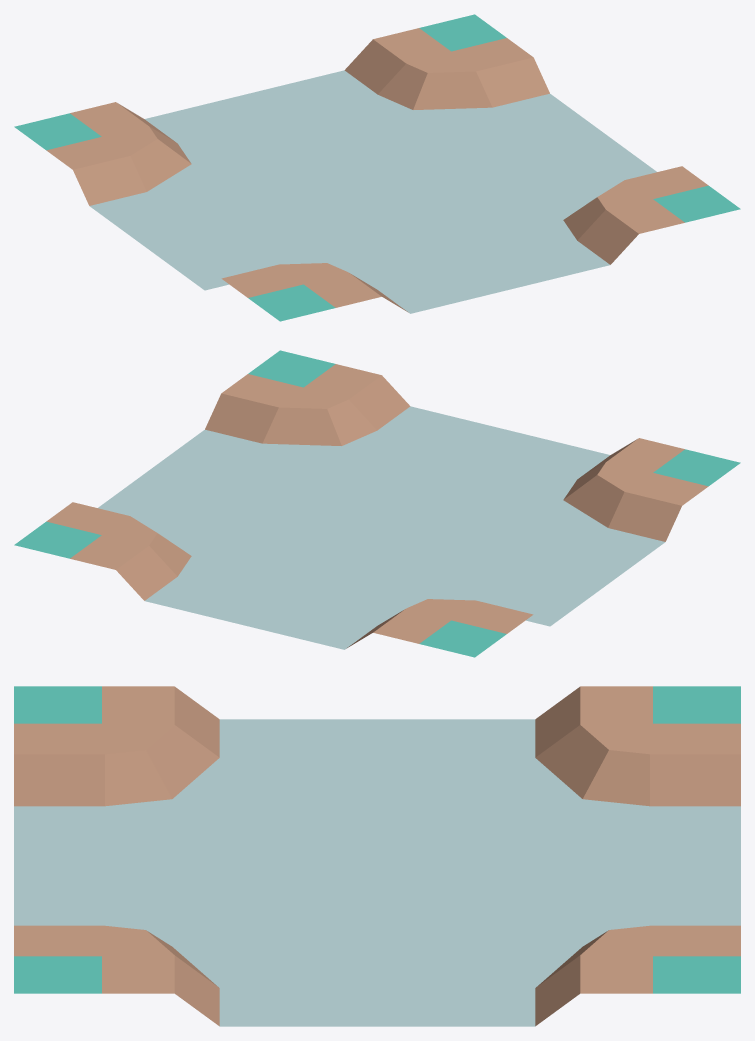
The model's file is ground_riverCross.glb.
The picture shows the model from 3 angles, top to bottom: view 1: azimuth 30°, elevation 25°; view 2: azimuth 150°, elevation 25°; view 3: azimuth 270°, elevation 25°; orthographic projection. The views are drawn at different scales.
Visible parts, largest first — view 1: ground_riverCross; view 2: ground_riverCross; view 3: ground_riverCross.
Part boxes in pixels (x1,y1,x2,y2): ground_riverCross: [14, 14, 740, 321]; ground_riverCross: [14, 350, 740, 657]; ground_riverCross: [14, 686, 740, 1026].
Size of the model in its own units: 1 by 0.05 by 1.
